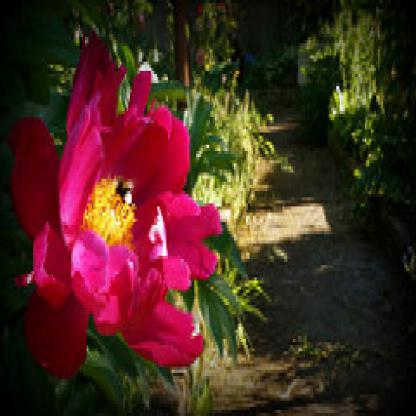Rose-Mawar: (4, 26, 223, 386)
